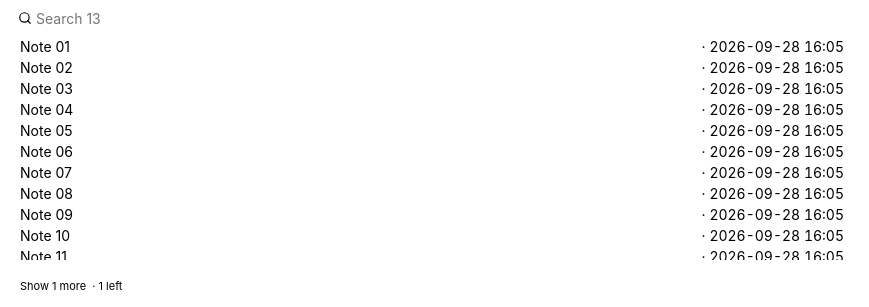
a long archive (#1191) › searches what an archived memory says, its body too, ignoring case
Type "friday freeze" into the search field named "Search archived memories in steward". click: (432, 18)
box: top-left (12, 4), bottom-right (852, 32)
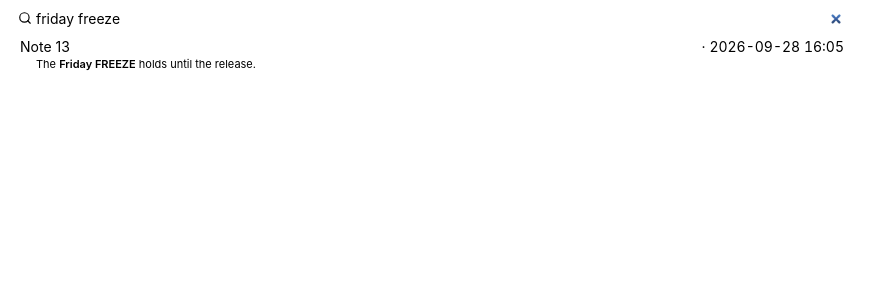
Result: the number of buttons is 1 at top-left (12, 36), bottom-right (852, 57)
Result: the element with test id "row-snippet-note-13" reads "The Friday FREEZE holds until the release." at top-left (36, 57), bottom-right (256, 71)
Result: the text "Friday FREEZE" is shown at top-left (59, 57), bottom-right (136, 71)
